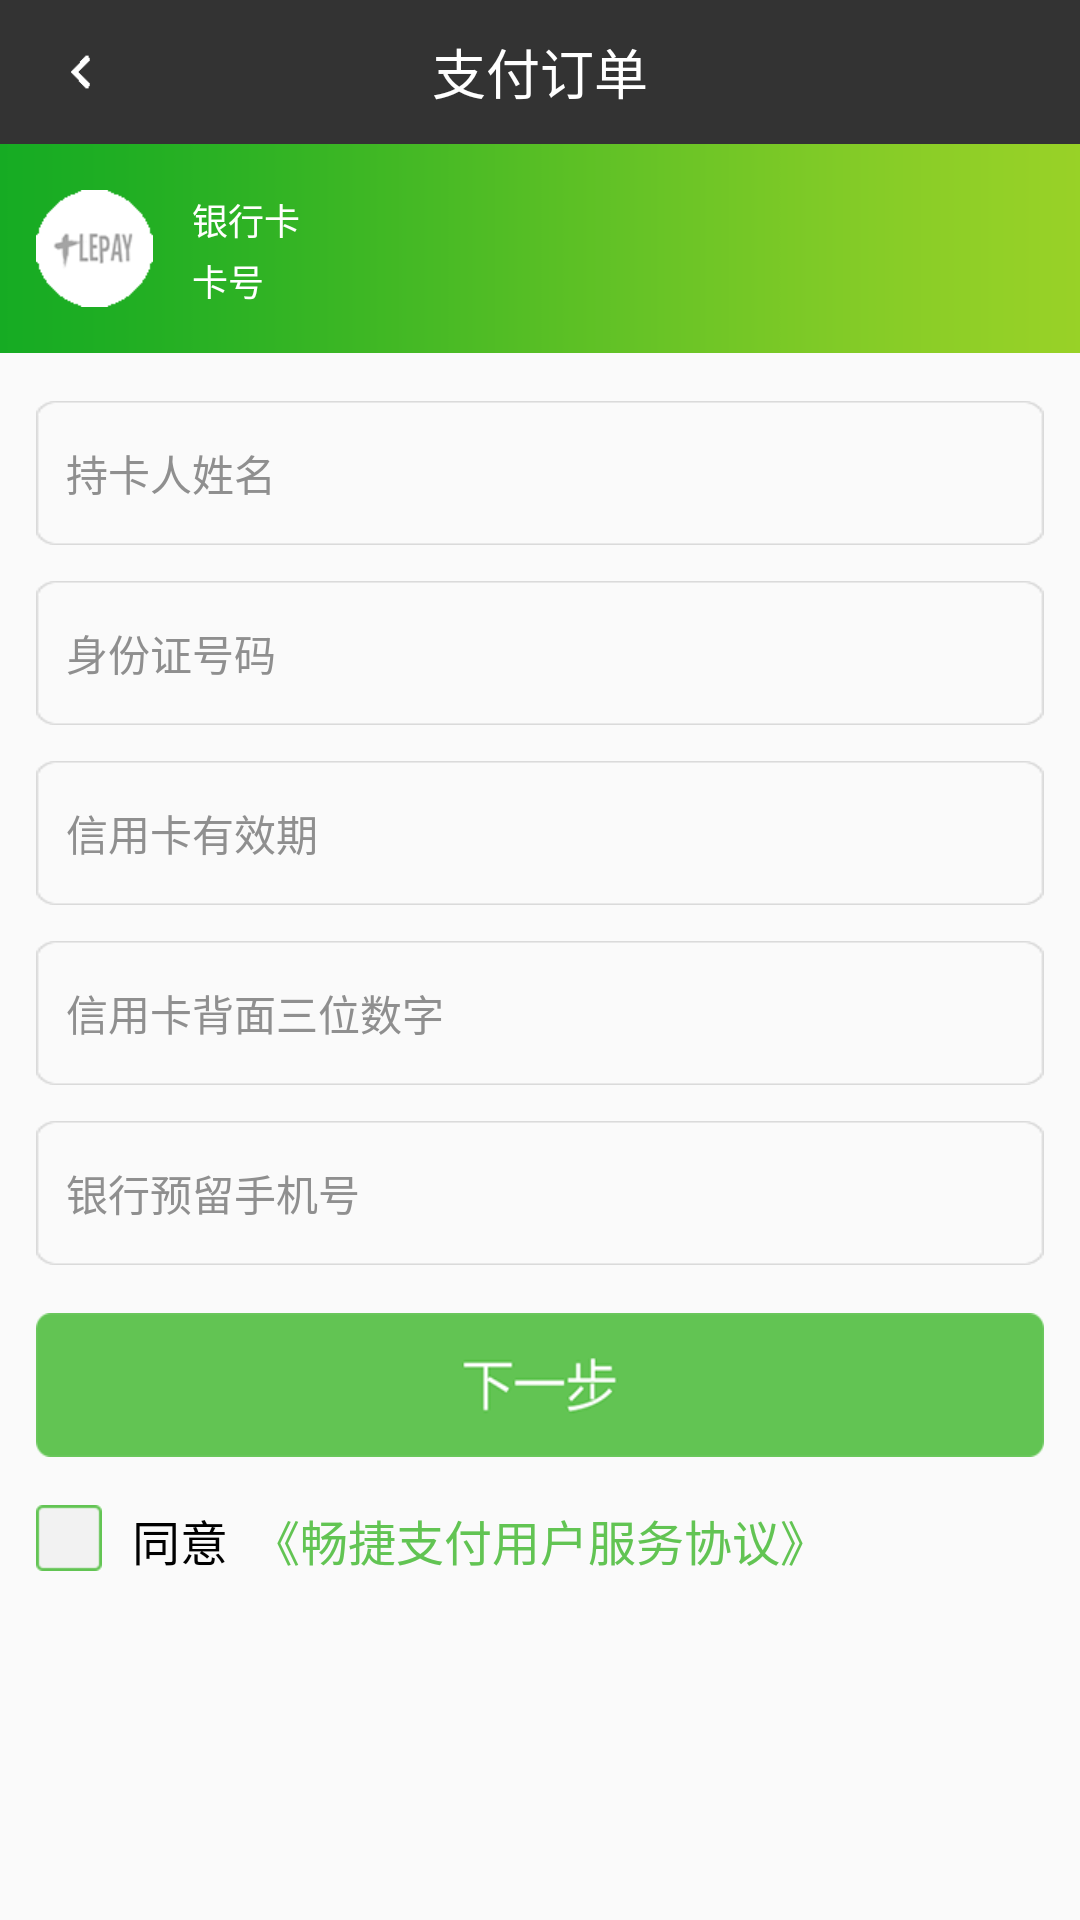

Named icons in this screenshot (1080*1920) and their centers, [x,y]:
lepay back: [80,72]
